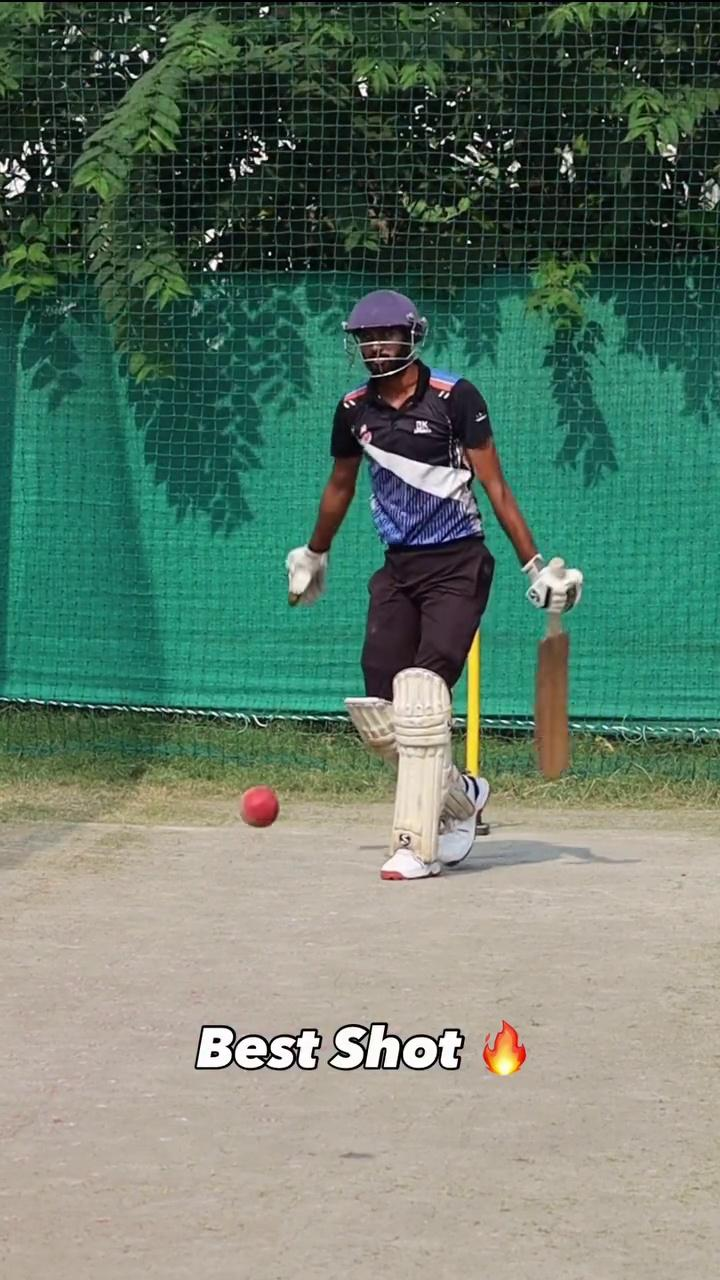bat: (538, 633, 569, 782)
